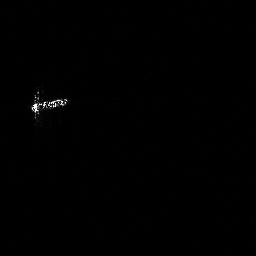ship: (31, 96, 68, 113)
